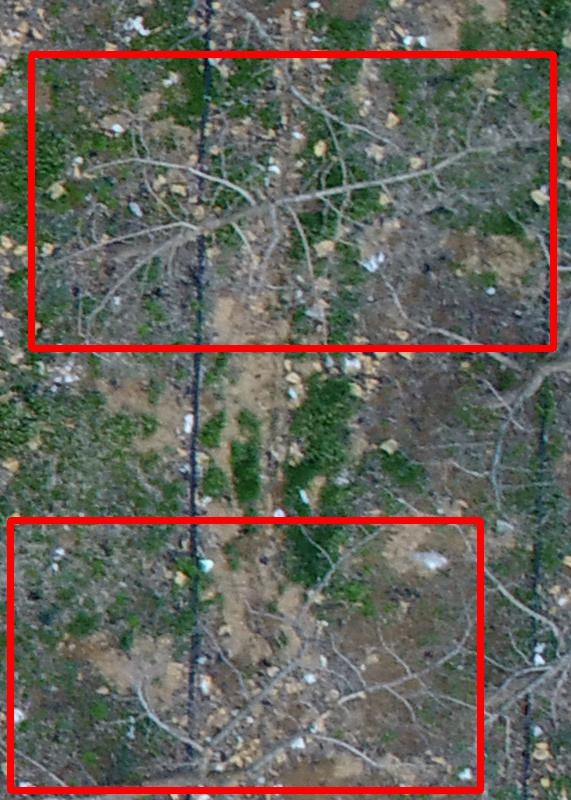apple: (31, 54, 553, 348), (10, 520, 480, 790)
